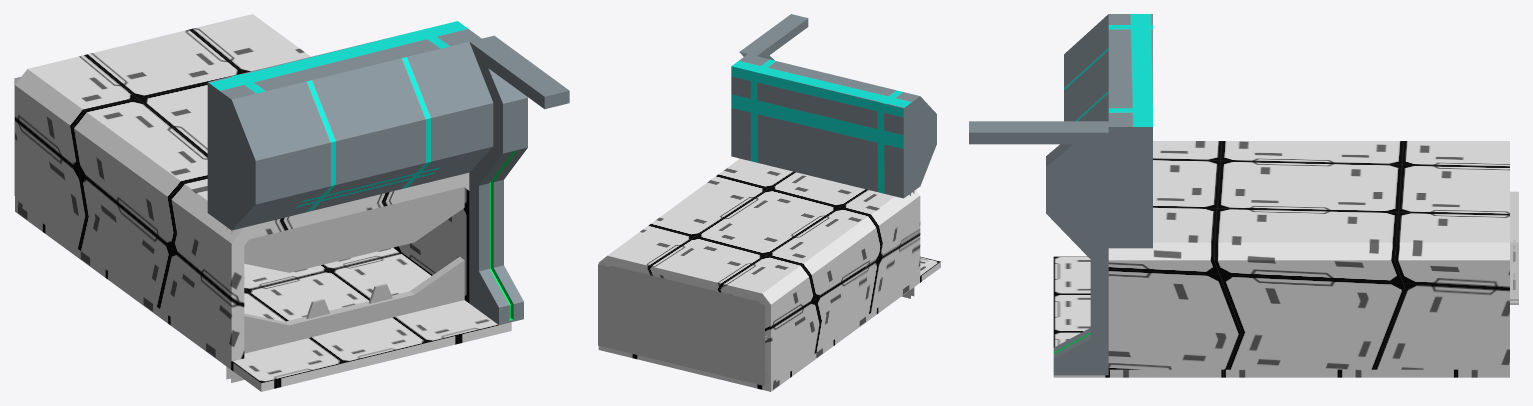
Rendered from LeftTop.fbx.
3 renders of one model, left to right at view 1: azimuth 30°, elevation 25°; view 2: azimuth 150°, elevation 25°; view 3: azimuth 270°, elevation 25°, orthographic. The views are drawn at different scales.
Parts seen in each view (by area): view 1: geo1; view 2: geo1; view 3: geo1.
Boxes of the visible parts, bbox=[...] form: geo1: bbox=[14, 14, 569, 391]; geo1: bbox=[598, 14, 940, 391]; geo1: bbox=[969, 14, 1518, 377].
Size of the model in its own units: 6.3 by 6.6 by 12.33.
